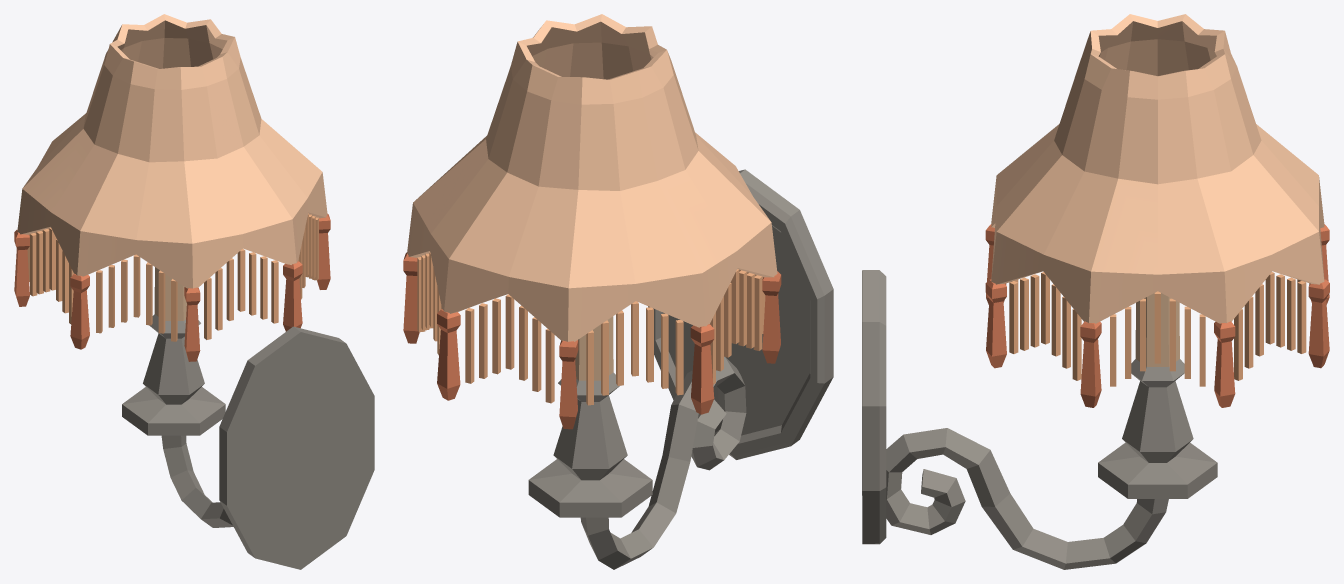
Rendered from light-wall-victorian-b.fbx.
The picture shows the model from 3 angles, left to right: view 1: azimuth 30°, elevation 25°; view 2: azimuth 150°, elevation 25°; view 3: azimuth 270°, elevation 25°; orthographic projection. The views are drawn at different scales.
Parts seen in each view (by area): view 1: light_wall_victorian_b; view 2: light_wall_victorian_b; view 3: light_wall_victorian_b.
Part boxes in pixels (x1,y1,x2,y2): light_wall_victorian_b: (14, 14, 374, 569); light_wall_victorian_b: (403, 14, 833, 569); light_wall_victorian_b: (862, 14, 1329, 569).
Size of the model in its own units: 29.75 by 50.34 by 40.44.
Materials: 2 (2 with a texture image).
